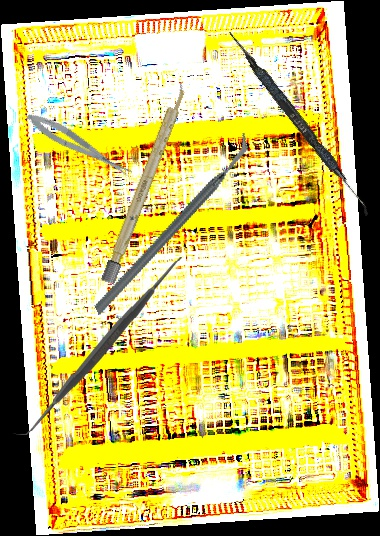Chopper: (54, 132, 289, 316)
Micro Scissor: (23, 106, 135, 185)
Scalpel Handle: (100, 81, 191, 285)
Spatula Surgical: (13, 254, 193, 438), (222, 29, 377, 217)
